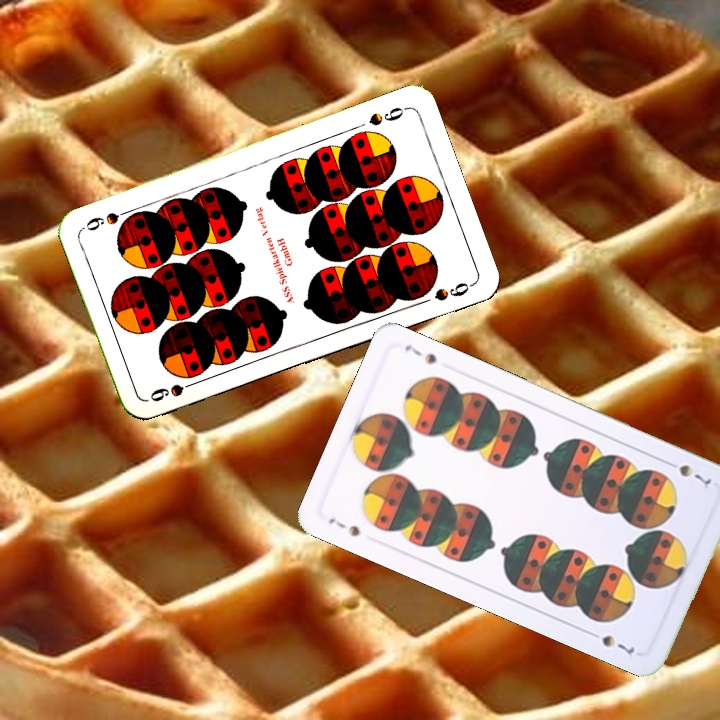S7: (661, 456, 715, 488), (324, 513, 363, 539)
S9: (145, 376, 202, 405), (364, 102, 411, 129)
